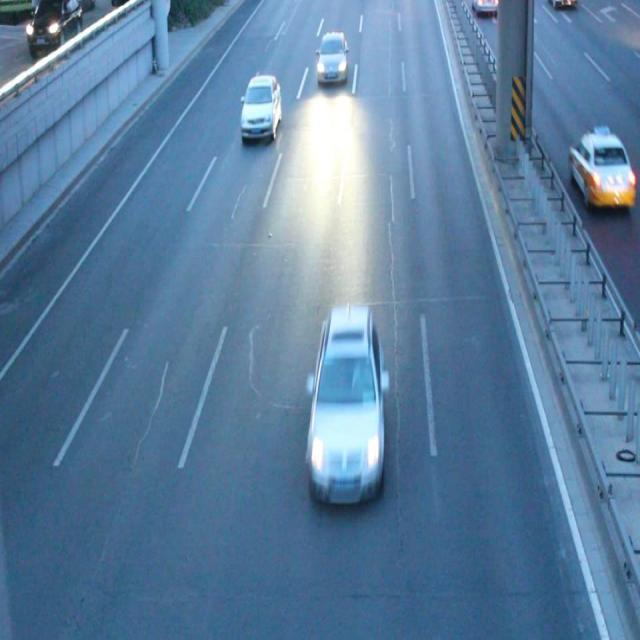car: (308, 306, 385, 506), (568, 132, 640, 212), (238, 73, 279, 140), (316, 35, 346, 84), (472, 1, 497, 17)
